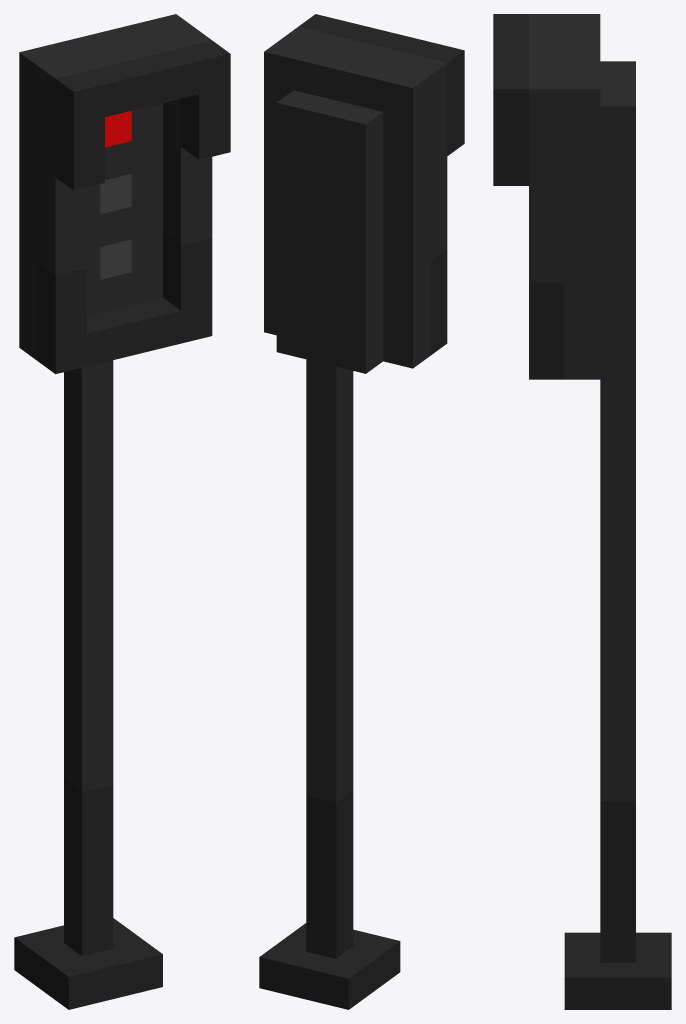
The model's file is ConstructionMaterials-73.obj.
The picture shows the model from 3 angles, left to right: view 1: azimuth 30°, elevation 25°; view 2: azimuth 150°, elevation 25°; view 3: azimuth 270°, elevation 25°; orthographic projection. The views are drawn at different scales.
Size of the model in its own units: 0.5 by 2.9 by 0.5.
1 material, 1 textured.
